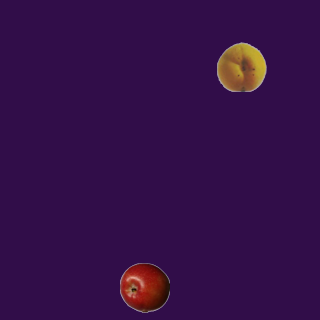Apple Braeburn: (119, 262, 169, 312)
Peach 2: (216, 41, 266, 91)
